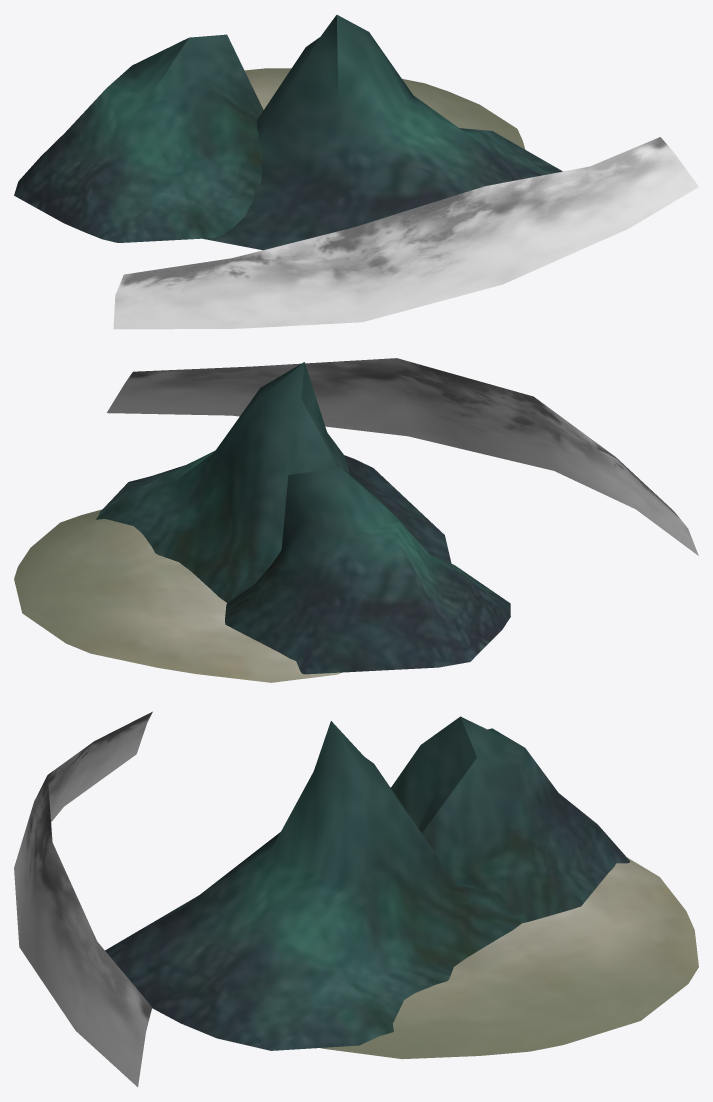
File: pir_m_are_isl_mysterious_06_low.fbx
3 views of the same model, one above another, from view 1: azimuth 30°, elevation 25°; view 2: azimuth 150°, elevation 25°; view 3: azimuth 270°, elevation 25° (orthographic). The views are drawn at different scales.
Parts seen in each view (by area): view 1: fog, hill, hill1, ground; view 2: hill1, fog, hill, ground; view 3: hill, ground, hill1, fog.
Part boxes in pixels (x1,y1,x2,y2): fog: [113, 137, 698, 329]; hill: [203, 15, 562, 250]; hill1: [14, 34, 263, 242]; ground: [244, 68, 525, 149]; hill1: [225, 467, 510, 674]; fog: [107, 358, 698, 555]; hill: [96, 362, 451, 602]; ground: [14, 509, 341, 682]; hill: [105, 721, 521, 1050]; ground: [320, 857, 698, 1059]; hill1: [390, 716, 630, 922]; fog: [14, 711, 152, 1087].
Size of the model in its own units: 370501 by 116081 by 322736.
2 materials, 2 textured.
